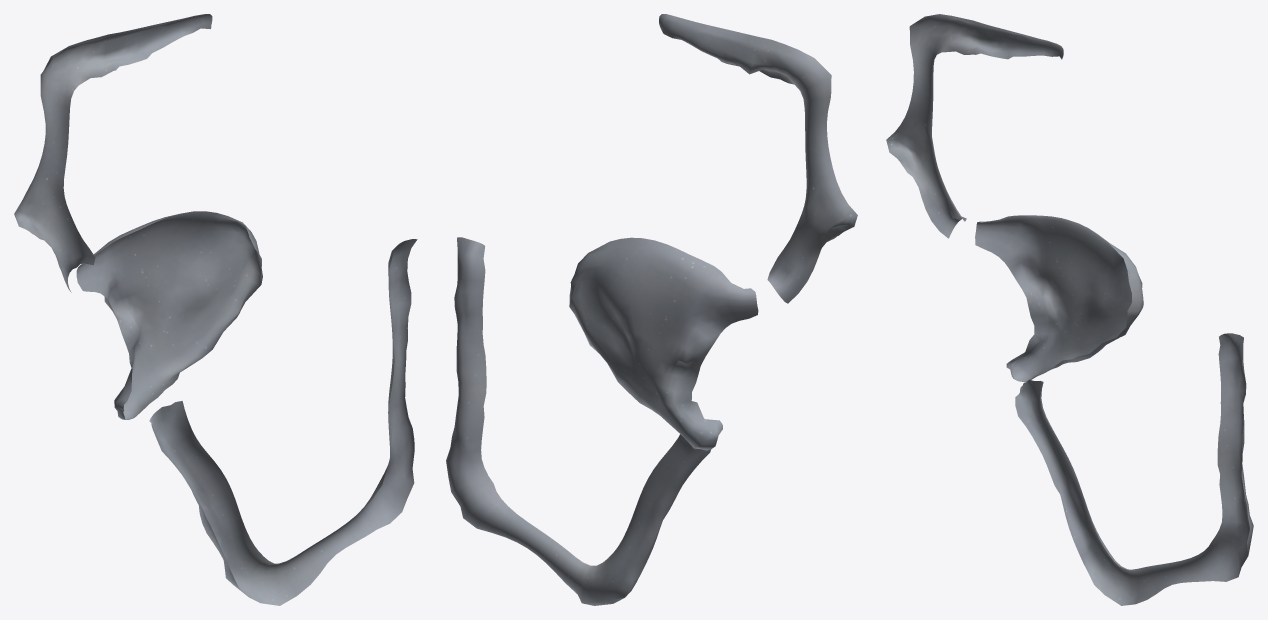
The model's file is pref_sm_beach_winter_center_snow01_lv3.fbx.
3 views of the same model, side by side, from view 1: azimuth 30°, elevation 25°; view 2: azimuth 150°, elevation 25°; view 3: azimuth 330°, elevation 25° (orthographic). The views are drawn at different scales.
Parts seen in each view (by area): view 1: pref_sm_beach_winter_center_snow01_lv3; view 2: pref_sm_beach_winter_center_snow01_lv3; view 3: pref_sm_beach_winter_center_snow01_lv3.
Part boxes in pixels (x1,y1,x2,y2): pref_sm_beach_winter_center_snow01_lv3: [14, 14, 417, 605]; pref_sm_beach_winter_center_snow01_lv3: [446, 14, 857, 605]; pref_sm_beach_winter_center_snow01_lv3: [886, 14, 1253, 605].
Size of the model in its own units: 11.07 by 16.01 by 1.89.
